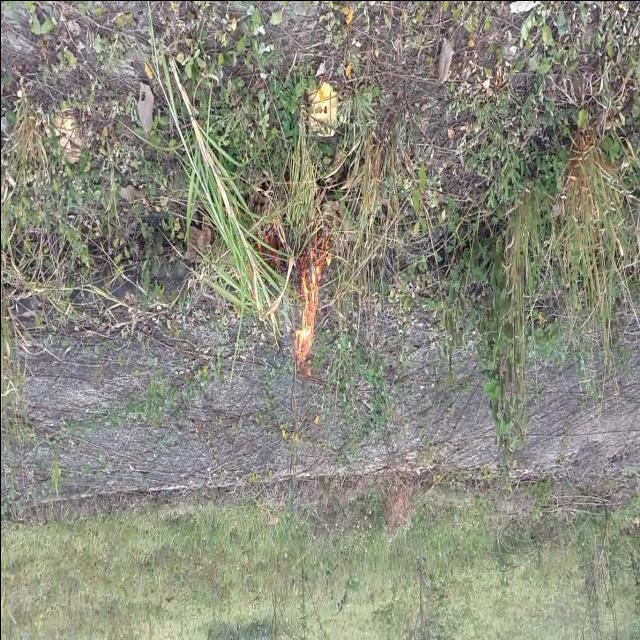Fire: (289, 240, 329, 378)
